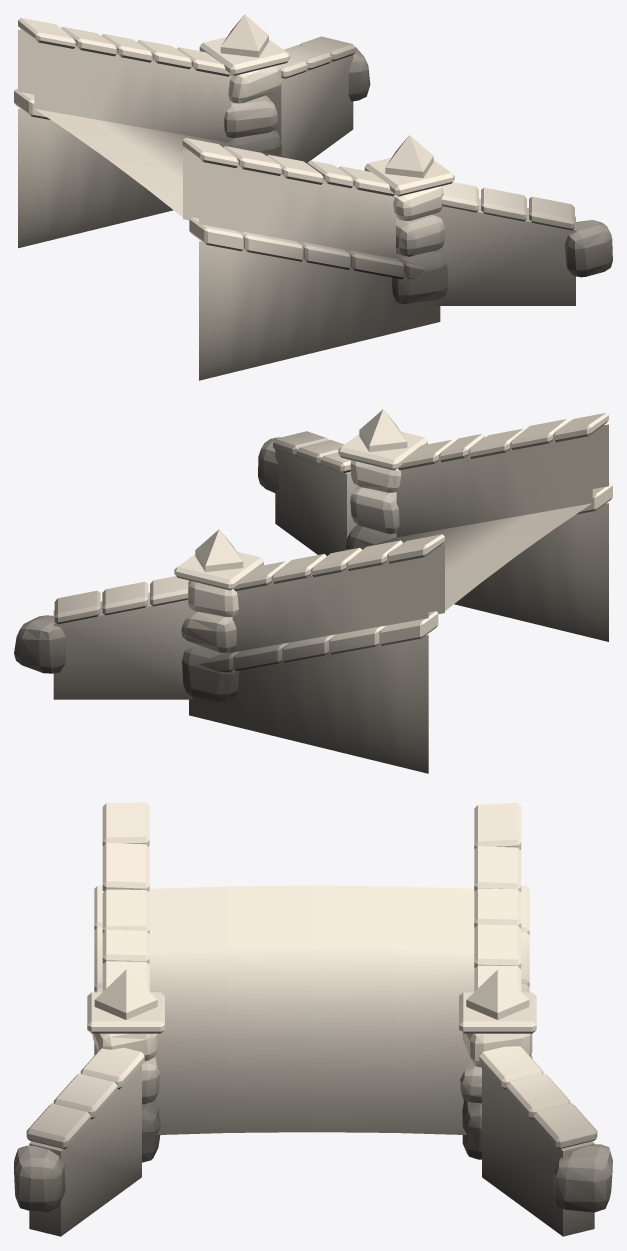
File: SM_VK_Bridge_Stone_Ramp.fbx
3 renders of one model, top to bottom at view 1: azimuth 30°, elevation 25°; view 2: azimuth 150°, elevation 25°; view 3: azimuth 270°, elevation 25°, orthographic. The views are drawn at different scales.
Parts seen in each view (by area): view 1: SM_VK_Bridge_Stone_Ramp.001; view 2: SM_VK_Bridge_Stone_Ramp.001; view 3: SM_VK_Bridge_Stone_Ramp.001.
Boxes of the visible parts, <box> form: SM_VK_Bridge_Stone_Ramp.001: <box>14,14,612,380</box>; SM_VK_Bridge_Stone_Ramp.001: <box>14,409,612,773</box>; SM_VK_Bridge_Stone_Ramp.001: <box>14,802,612,1236</box>.
Bounding box in the file's own units: 4.71 × 2.73 × 5.72.
